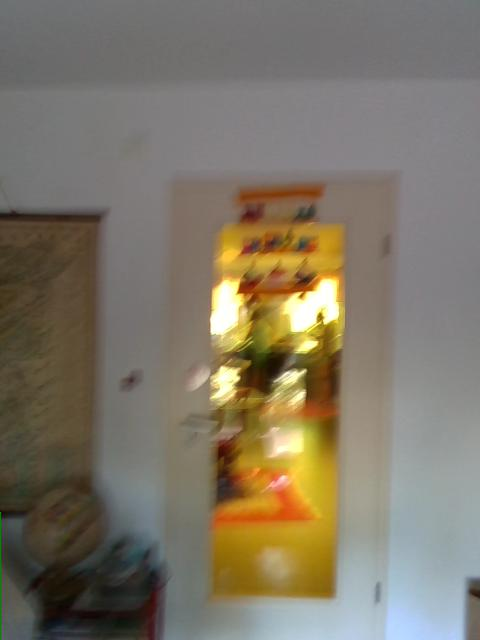door: (166, 179, 384, 639)
